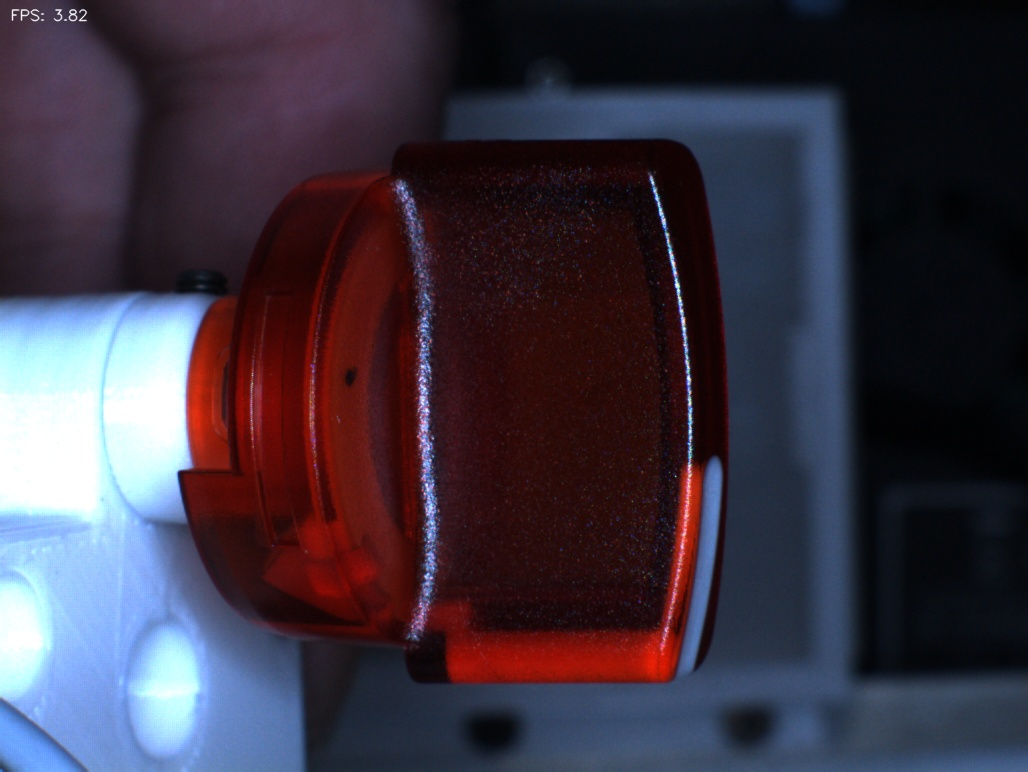PointNoir: (303, 330, 410, 427)
